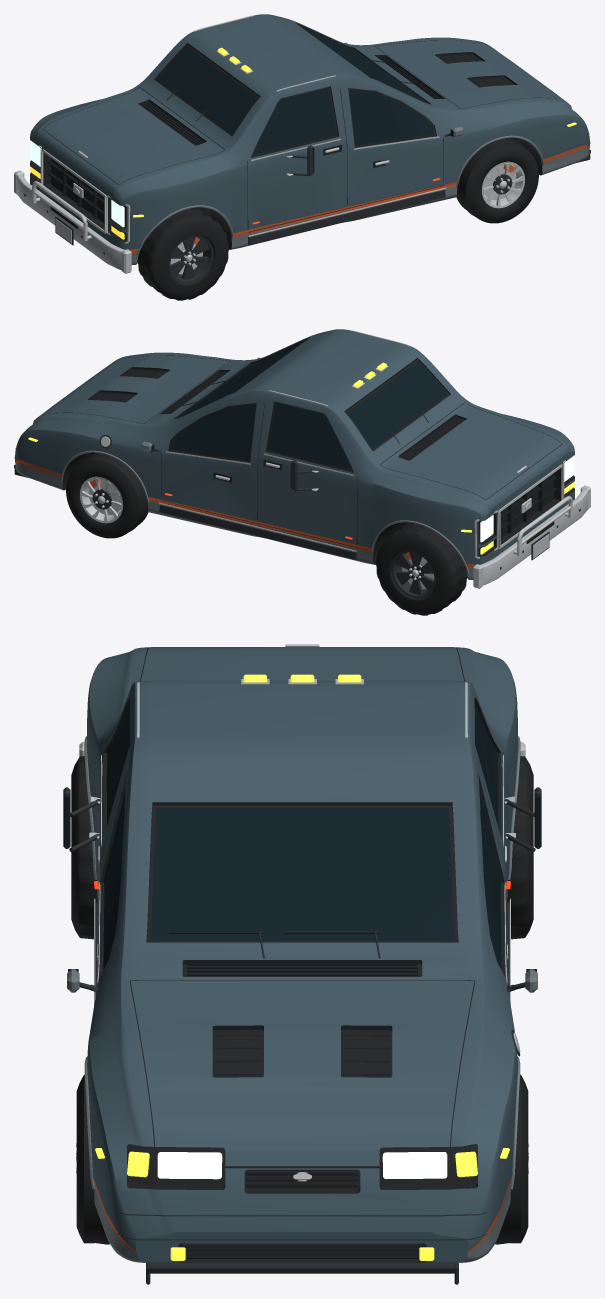
File: deadbolt_hardsurface.glb
The picture shows the model from 3 angles, top to bottom: view 1: azimuth 30°, elevation 25°; view 2: azimuth 150°, elevation 25°; view 3: azimuth 270°, elevation 25°; orthographic projection. The views are drawn at different scales.
Parts seen in each view (by area): view 1: Body_DeadboltShell.001, Detail_BrushedMetal, Wheel_Truck_Tire_-1.001, Glass_TruckWindshield.001, Wheel_Coupe_Tire_-1.001, Glass_TruckSide_R.001, Glass_CoupeSide_R.001, Detail_Gunmetal, Detail_Grille, Glass_CoupeWindshield.001, Detail_Secondary, Wheel_Coupe_Hub_-1.001 (+5 smaller); view 2: Body_DeadboltShell.001, Detail_BrushedMetal, Wheel_Truck_Tire_+1.001, Glass_TruckWindshield.001, Wheel_Coupe_Tire_+1.001, Glass_TruckSide_L.001, Glass_CoupeSide_L.001, Detail_Gunmetal, Detail_Grille, Glass_CoupeWindshield.001, Detail_Secondary, Wheel_Coupe_Hub_+1.001 (+5 smaller); view 3: Body_DeadboltShell.001, Glass_CoupeWindshield.001, Detail_Grille, Detail_Gunmetal, Detail_Headlight, Wheel_Truck_Tire_+1.001, Wheel_Truck_Tire_-1.001, Detail_Rubber, Wheel_Coupe_Tire_-1.001, Wheel_Coupe_Tire_+1.001, Detail_BrushedMetal, Detail_Secondary (+5 smaller).
Boxes of the visible parts, x1=… form: Body_DeadboltShell.001: x1=30, y1=14, x2=589, y2=264; Detail_BrushedMetal: x1=14, y1=15, x2=445, y2=273; Wheel_Truck_Tire_-1.001: x1=137, y1=208, x2=229, y2=300; Glass_TruckWindshield.001: x1=157, y1=46, x2=257, y2=134; Wheel_Coupe_Tire_-1.001: x1=456, y1=138, x2=538, y2=223; Glass_TruckSide_R.001: x1=253, y1=88, x2=336, y2=154; Glass_CoupeSide_R.001: x1=349, y1=89, x2=434, y2=145; Detail_Gunmetal: x1=24, y1=60, x2=590, y2=254; Detail_Grille: x1=48, y1=54, x2=510, y2=218; Glass_CoupeWindshield.001: x1=300, y1=26, x2=427, y2=103; Detail_Secondary: x1=135, y1=42, x2=544, y2=258; Wheel_Coupe_Hub_-1.001: x1=483, y1=164, x2=516, y2=200; Body_DeadboltShell.001: x1=15, y1=329, x2=574, y2=579; Detail_BrushedMetal: x1=101, y1=330, x2=590, y2=588; Wheel_Truck_Tire_+1.001: x1=375, y1=523, x2=467, y2=615; Glass_TruckWindshield.001: x1=347, y1=361, x2=447, y2=449; Wheel_Coupe_Tire_+1.001: x1=66, y1=453, x2=148, y2=538; Glass_TruckSide_L.001: x1=268, y1=403, x2=351, y2=469; Glass_CoupeSide_L.001: x1=170, y1=404, x2=255, y2=460; Detail_Gunmetal: x1=14, y1=380, x2=580, y2=569; Detail_Grille: x1=94, y1=369, x2=556, y2=533; Glass_CoupeWindshield.001: x1=177, y1=341, x2=304, y2=418; Detail_Secondary: x1=60, y1=357, x2=469, y2=573; Wheel_Coupe_Hub_+1.001: x1=88, y1=479, x2=121, y2=515; Body_DeadboltShell.001: x1=86, y1=647, x2=518, y2=1262; Glass_CoupeWindshield.001: x1=150, y1=808, x2=454, y2=941; Detail_Grille: x1=182, y1=963, x2=422, y2=1258; Detail_Gunmetal: x1=63, y1=787, x2=541, y2=1284; Detail_Headlight: x1=157, y1=1152, x2=447, y2=1179; Wheel_Truck_Tire_+1.001: x1=507, y1=756, x2=533, y2=939; Wheel_Truck_Tire_-1.001: x1=71, y1=756, x2=97, y2=939; Detail_Rubber: x1=148, y1=931, x2=456, y2=1273; Wheel_Coupe_Tire_-1.001: x1=76, y1=1074, x2=109, y2=1244; Wheel_Coupe_Tire_+1.001: x1=495, y1=1074, x2=528, y2=1244; Detail_BrushedMetal: x1=79, y1=644, x2=525, y2=1181; Detail_Secondary: x1=67, y1=736, x2=537, y2=1189.
Bounding box in the file's own units: 5.33 × 1.82 × 2.23.
